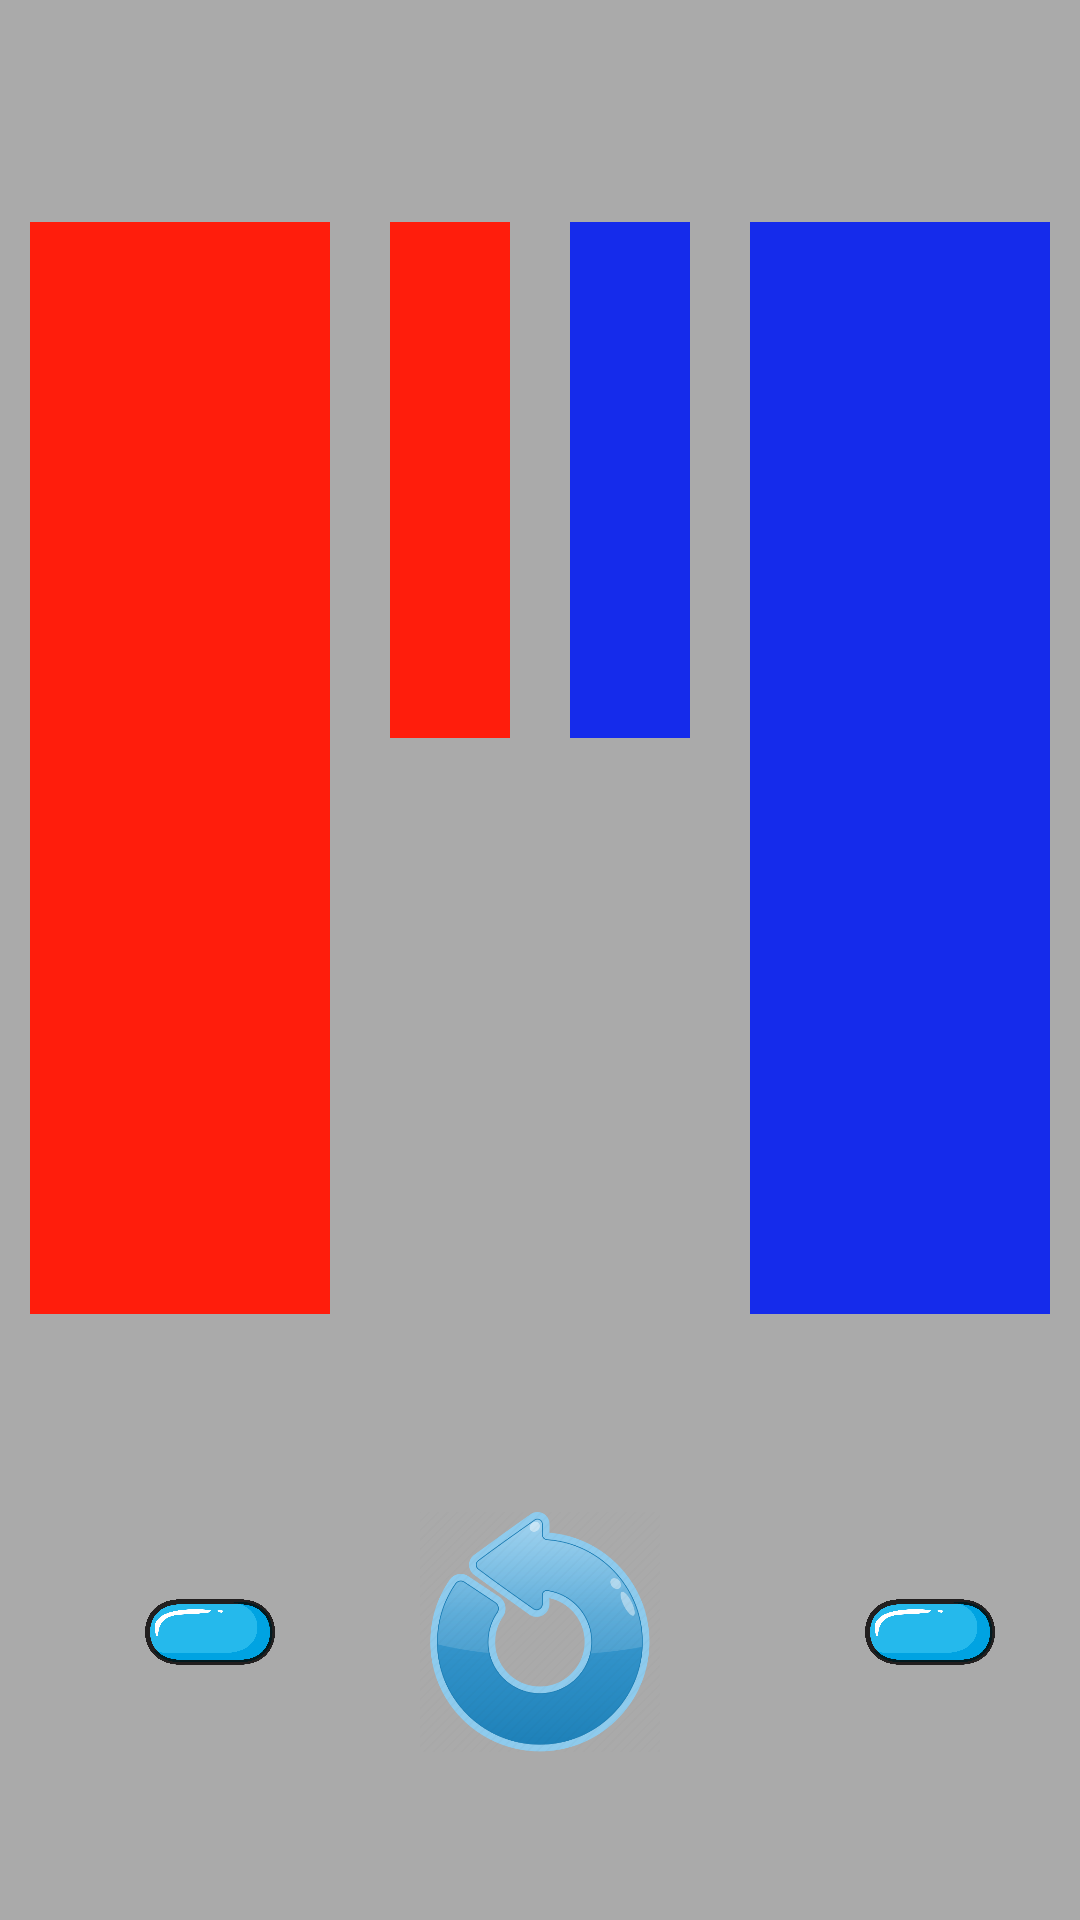

Icons on this 1080px x 1920px Android screen, each with the point to tap as (x,y):
minus: (210,1632), (930,1632)
restart: (540,1632)
